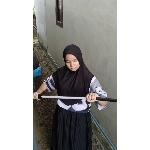Pedang: (33, 89, 117, 107)
